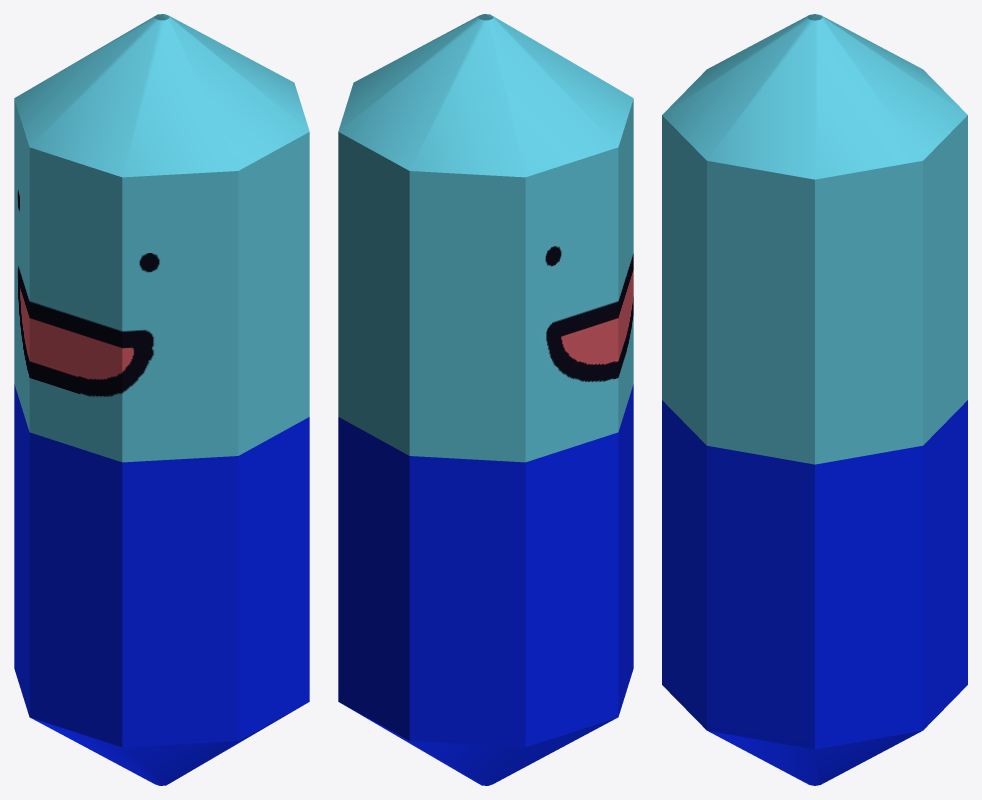
Rendered from HappyPill.FBX.
3 views of the same model, side by side, from view 1: azimuth 30°, elevation 25°; view 2: azimuth 150°, elevation 25°; view 3: azimuth 270°, elevation 25° (orthographic).
Visible parts, largest first — view 1: g_vpils; view 2: g_vpils; view 3: g_vpils.
Boxes of the visible parts, <box> form: g_vpils: <box>14,14,309,785</box>; g_vpils: <box>338,14,633,785</box>; g_vpils: <box>662,14,967,785</box>.
Bounding box in the file's own units: 22.48 × 62.05 × 22.48.
Materials: 1 (1 with a texture image).
